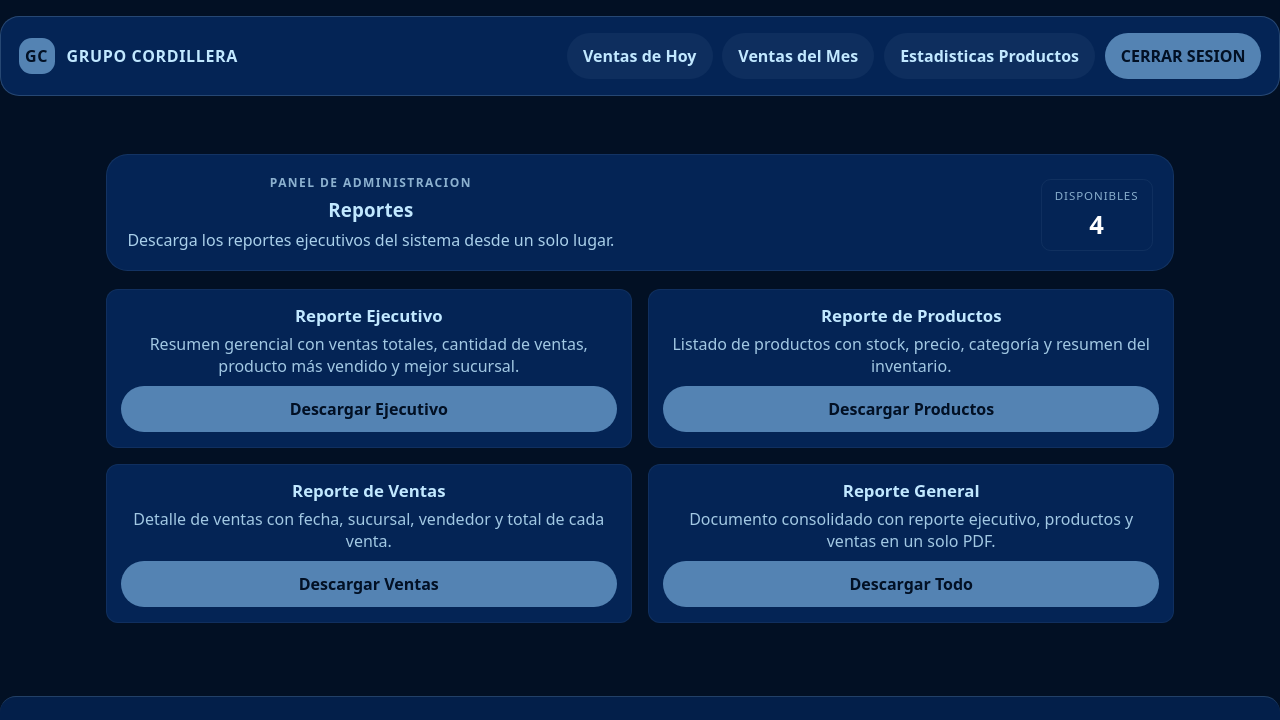
it: ReportesPage › muestra error simple al descargar
This screenshot has width=1280, height=720.
Click the button "Descargar Ejecutivo" at coordinates (369, 409), box [121,386,617,432]
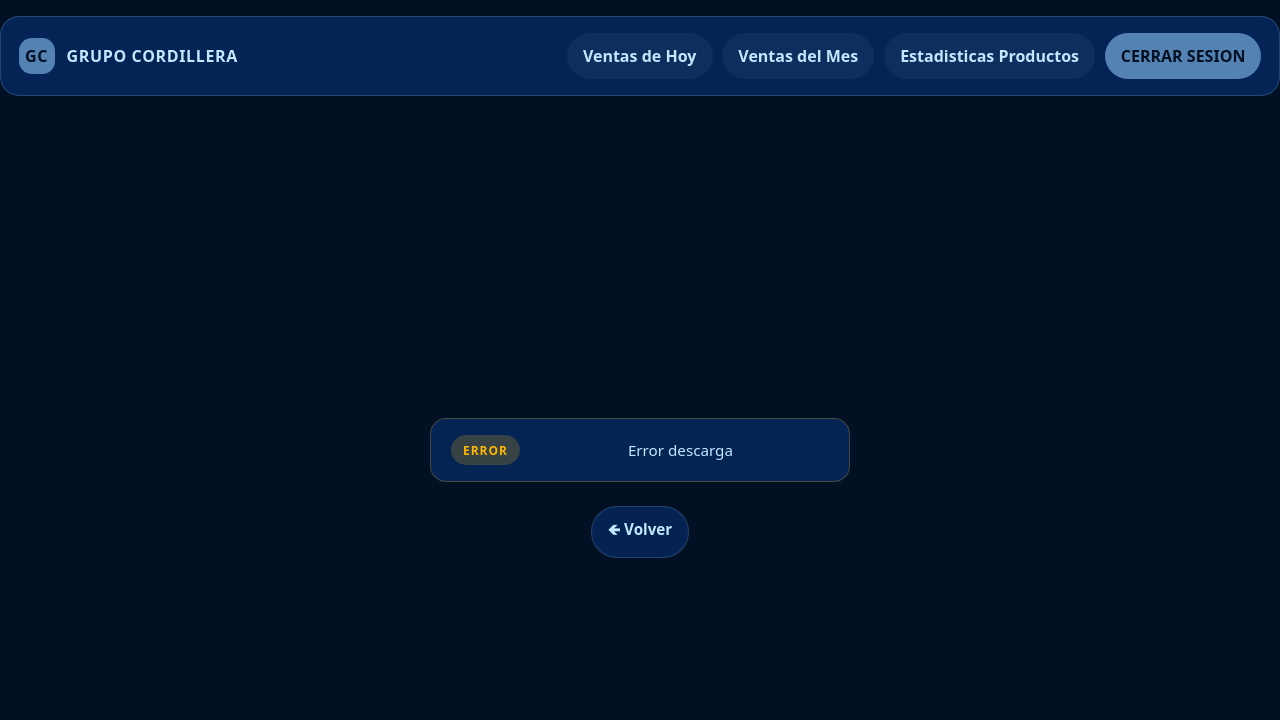
expect the text "Error descarga" is shown: met, box [628,440,733,460]
